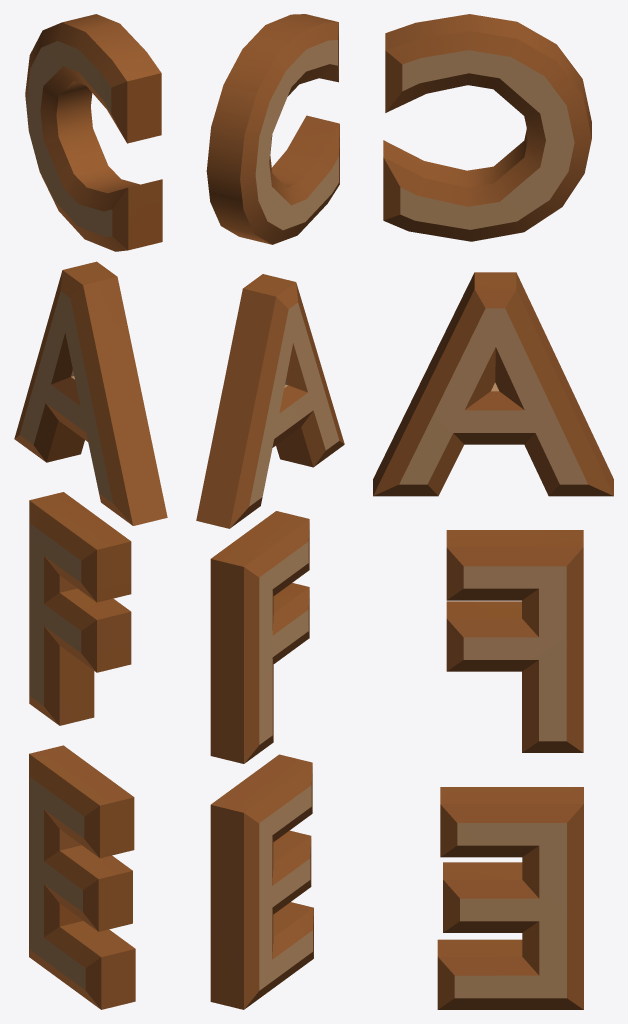
The model's file is CafeSign_5_A.fbx.
3 renders of one model, left to right at view 1: azimuth 30°, elevation 25°; view 2: azimuth 150°, elevation 25°; view 3: azimuth 270°, elevation 25°, orthographic. The views are drawn at different scales.
Parts seen in each view (by area): view 1: CafeSign_5_A; view 2: CafeSign_5_A; view 3: CafeSign_5_A.
Boxes of the visible parts, x1,y1,x2,y2 form: CafeSign_5_A: (14, 14, 167, 1009); CafeSign_5_A: (196, 14, 344, 1009); CafeSign_5_A: (373, 14, 613, 1009).
Size of the model in its own units: 23.82 by 447 by 99.78.
